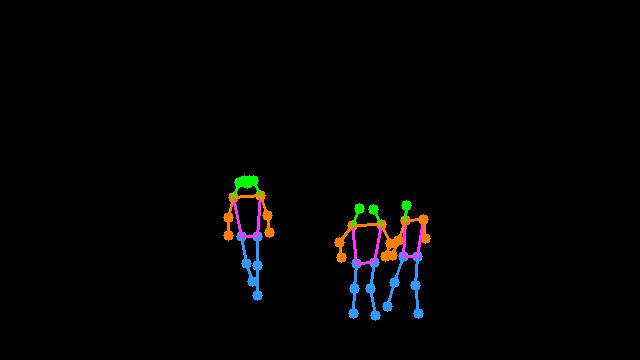normal: (312, 176, 447, 332), (205, 163, 301, 316)
